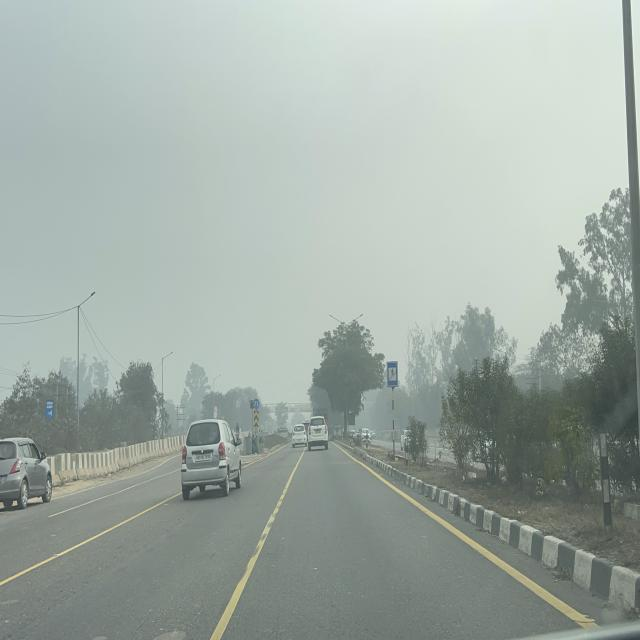INFORMATION: (387, 362, 398, 388), (46, 401, 53, 418)
KEEP_EITHER_SIDE: (253, 398, 260, 410)
